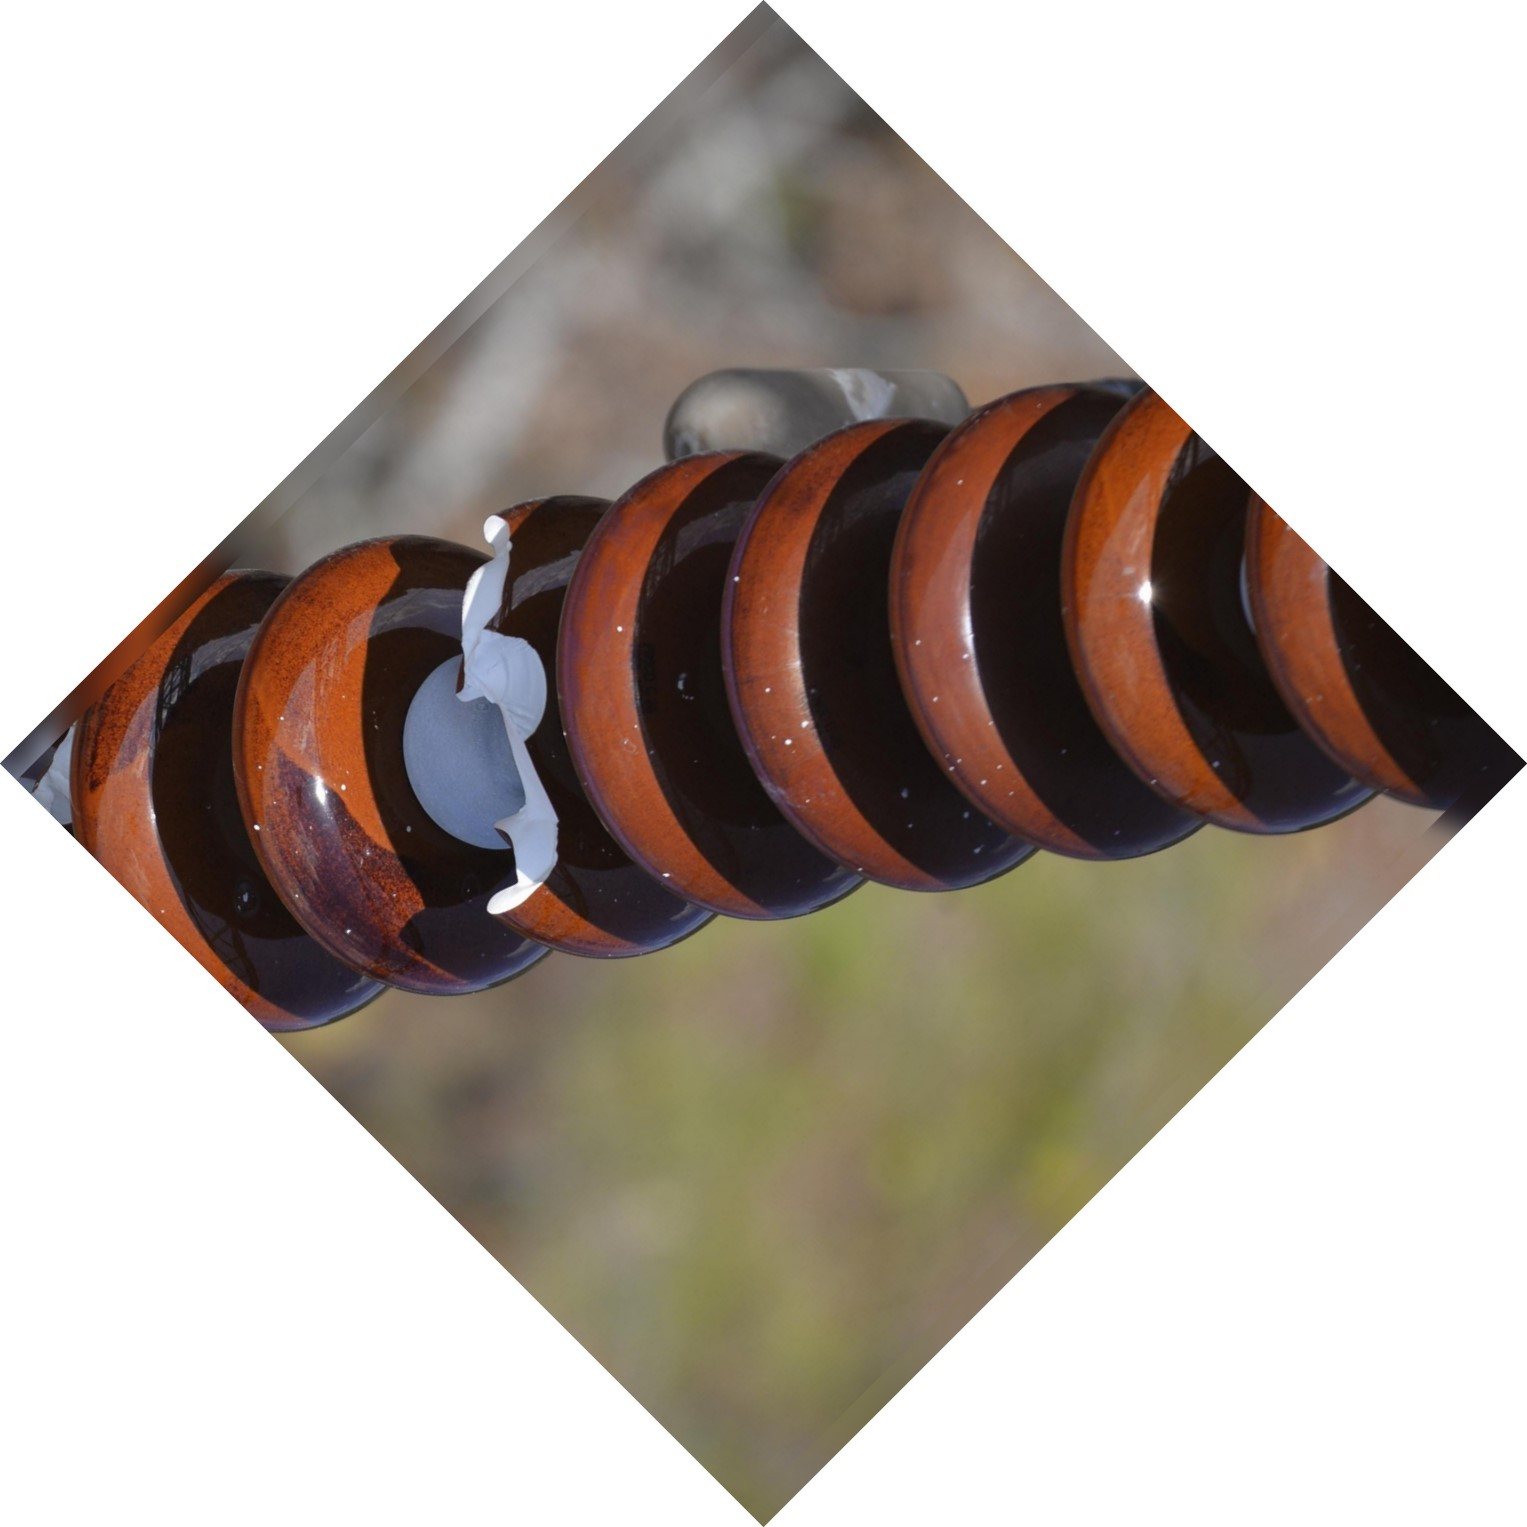insulator breakage: (447, 481, 682, 966)
